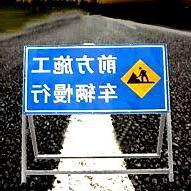sign: (22, 44, 170, 114)
